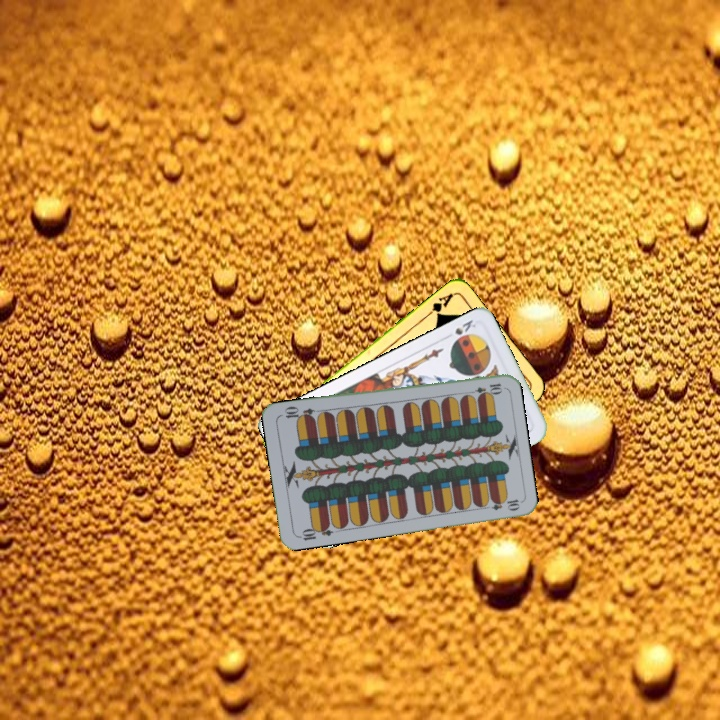E10: (294, 520, 335, 543), (464, 379, 505, 398)
GA: (421, 289, 456, 320)
SK: (451, 316, 478, 338)
